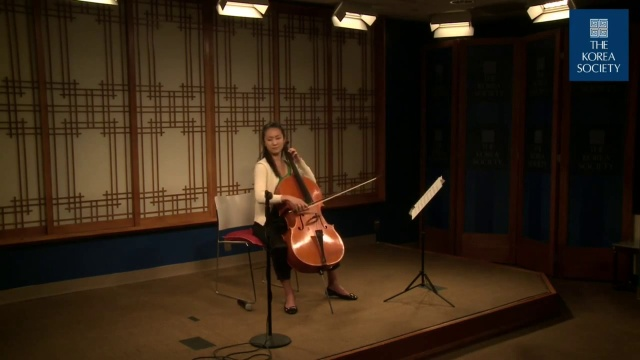person: (248, 116, 337, 318), (252, 122, 323, 224)
